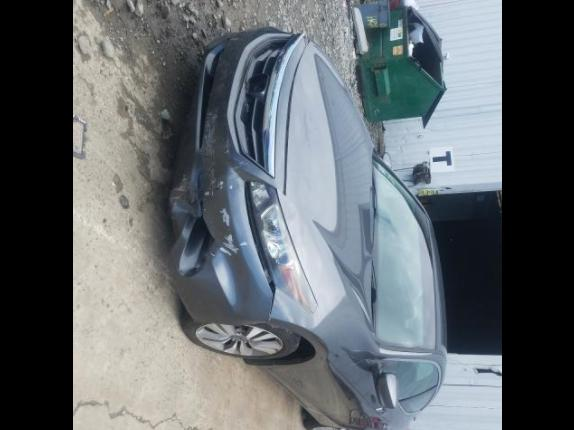Broken part: (167, 26, 310, 326)
Scratch: (199, 110, 217, 177), (166, 174, 196, 204), (219, 233, 246, 257), (199, 179, 223, 196), (216, 209, 229, 227), (222, 139, 230, 154), (237, 160, 247, 166), (226, 183, 233, 190), (208, 253, 215, 257)
